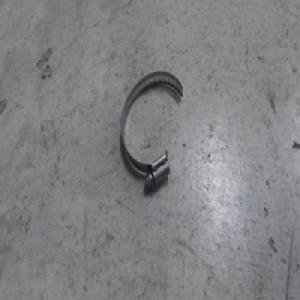AdjustableClamp: (120, 68, 184, 184)
